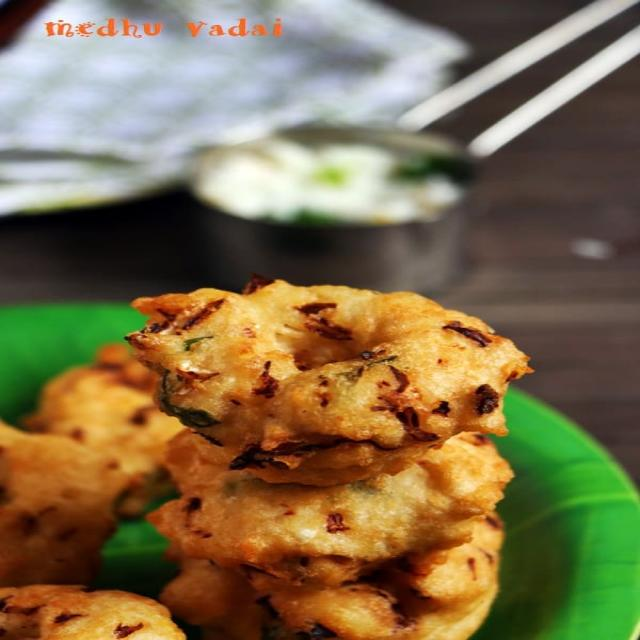MEDU VADA: (0, 286, 524, 639)
